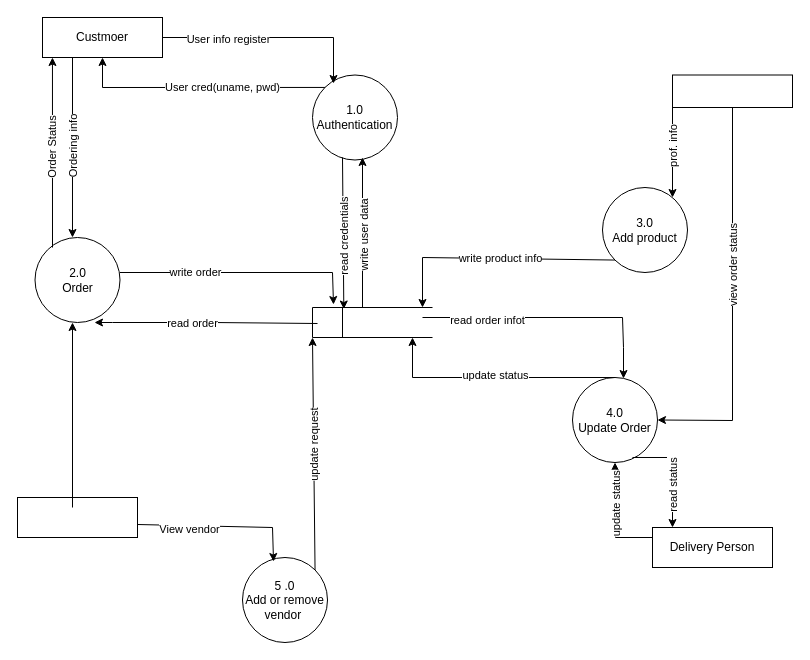
This 810x660 diagram has some shape labels left out. The shapes that lost their labels are listed below. From the top down, each one's box as (x1, y1, x2, y2) in pixels, then its label:
(672, 74, 792, 108): Vendor
(312, 306, 432, 338): data store
(16, 496, 138, 538): Employee
